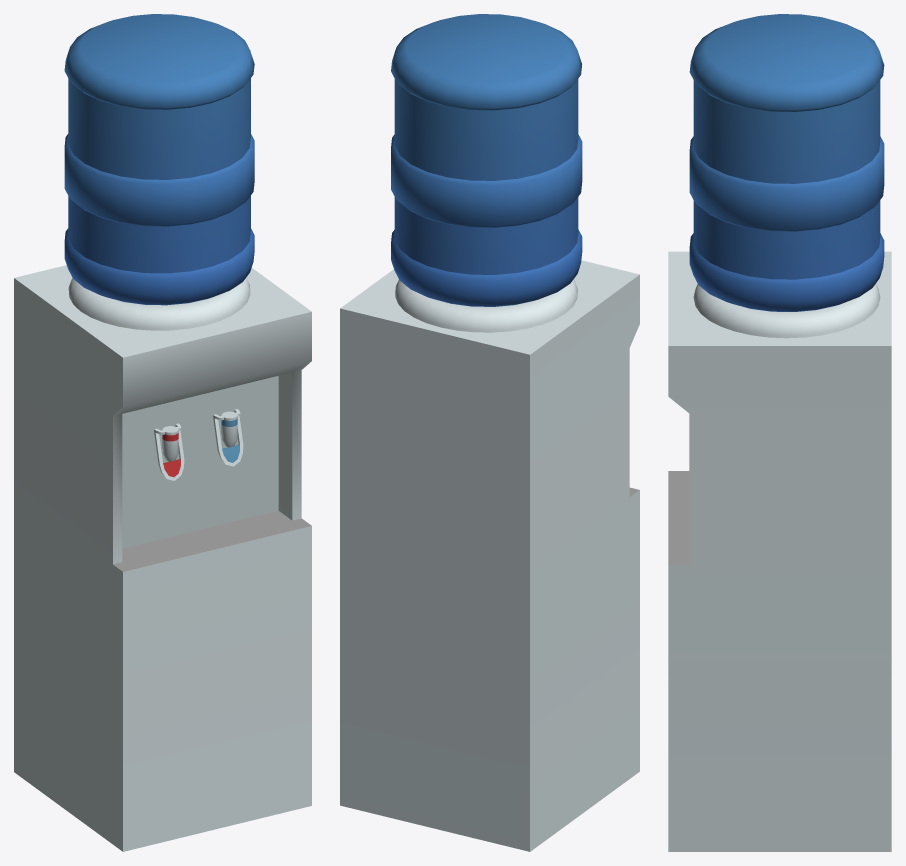
File: waterCooler.fbx
3 renders of one model, left to right at view 1: azimuth 30°, elevation 25°; view 2: azimuth 150°, elevation 25°; view 3: azimuth 270°, elevation 25°, orthographic. The views are drawn at different scales.
Visible parts, largest first — view 1: waterCooler, gallonWater, waterCooler_Dispenser_Cold_Handle, waterCooler_Dispenser_Hot_Handle; view 2: waterCooler, gallonWater; view 3: waterCooler, gallonWater.
Boxes of the visible parts, <box> form: waterCooler: <box>14,265,311,851</box>; gallonWater: <box>64,14,254,305</box>; waterCooler_Dispenser_Cold_Handle: <box>213,409,243,466</box>; waterCooler_Dispenser_Hot_Handle: <box>154,423,184,480</box>; waterCooler: <box>340,260,639,851</box>; gallonWater: <box>391,14,582,306</box>; waterCooler: <box>668,251,891,851</box>; gallonWater: <box>689,14,884,311</box>.
Size of the model in its own units: 1.6 by 1.6 by 5.98.
2 materials, 2 textured.
